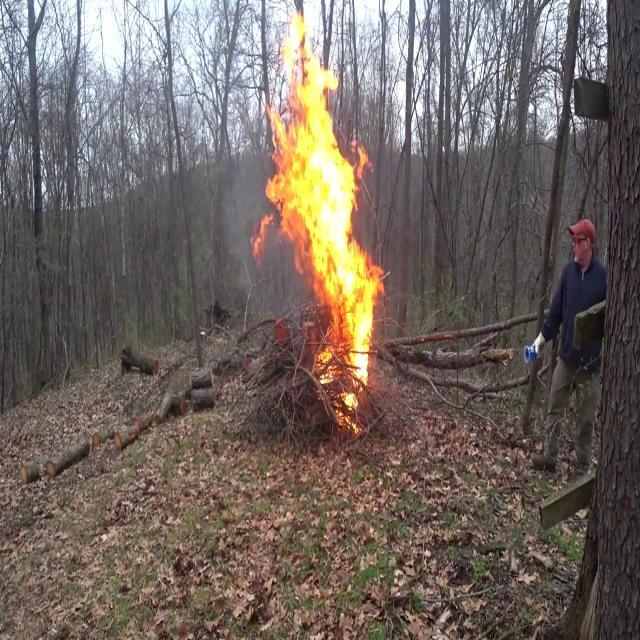Fire: (247, 4, 391, 404)
